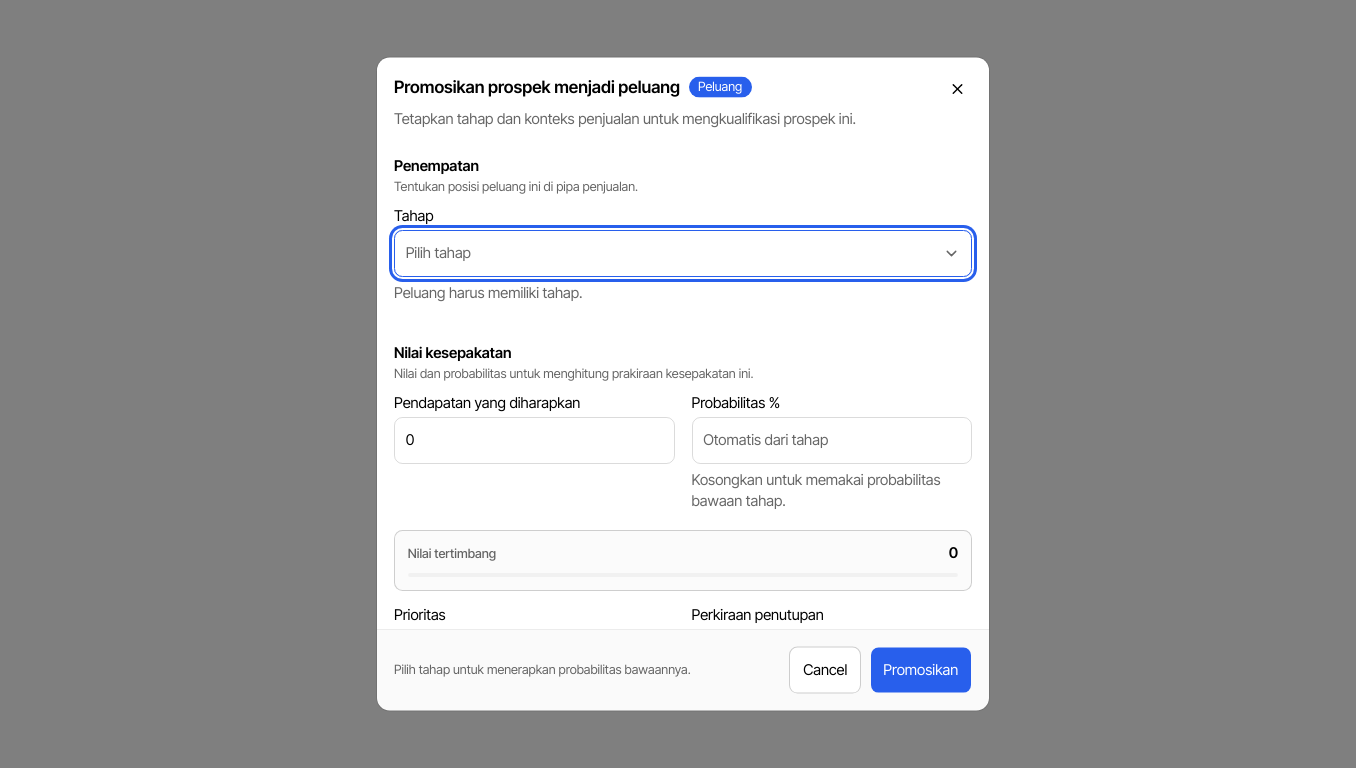
Scenario: PromoteDialog › requires a stage before promoting
Expected: the heading "Promosikan prospek menjadi peluang" is shown, [394,75,680,100]
Click the button "Promosikan" at {"x": 921, "y": 670}, box [870,647,972,693]
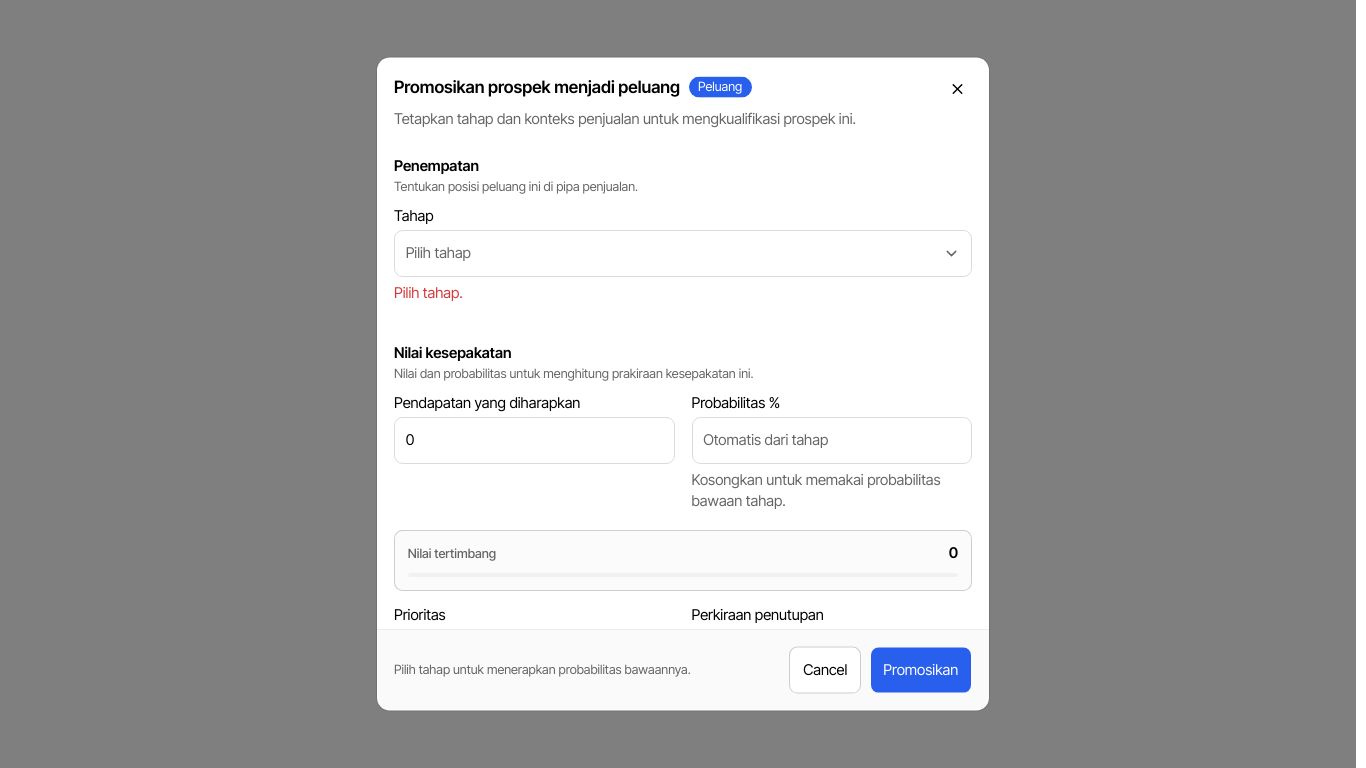
Now the text "Pilih tahap." is shown, box [394,284,463,302]
